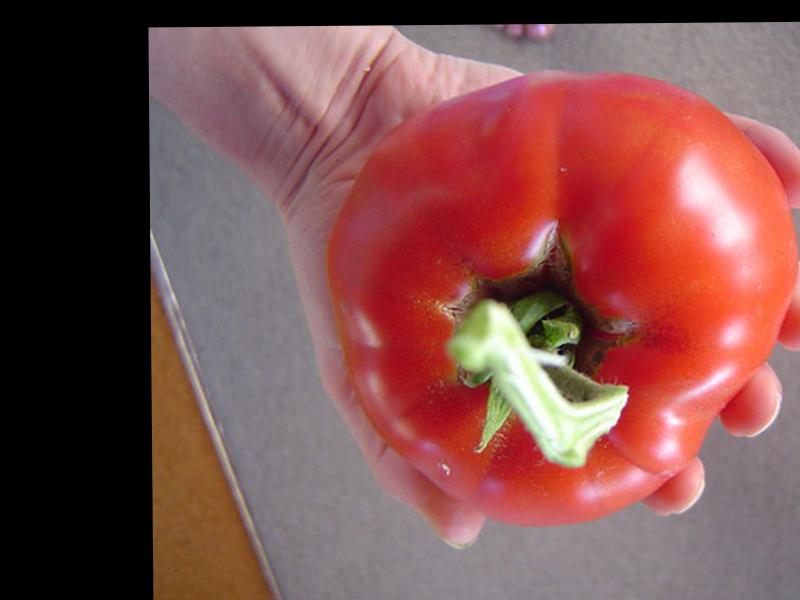Tomato: (326, 70, 799, 529)
